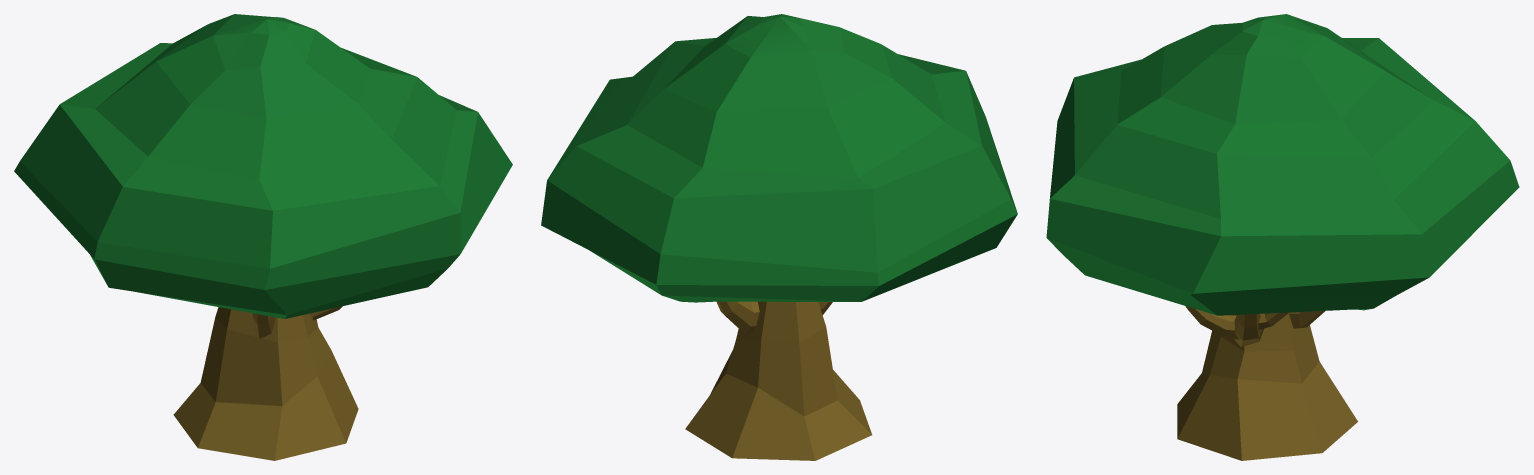
3 renders of one model, left to right at view 1: azimuth 30°, elevation 25°; view 2: azimuth 150°, elevation 25°; view 3: azimuth 270°, elevation 25°, orthographic.
Parts seen in each view (by area): view 1: Circle005; view 2: Circle005; view 3: Circle005.
Part boxes in pixels (left/top/right/bottom): Circle005: left=14, top=14, right=512, bottom=460; Circle005: left=541, top=14, right=1017, bottom=460; Circle005: left=1046, top=14, right=1519, bottom=460.
Size of the model in its own units: 12.53 by 11.61 by 12.4.
